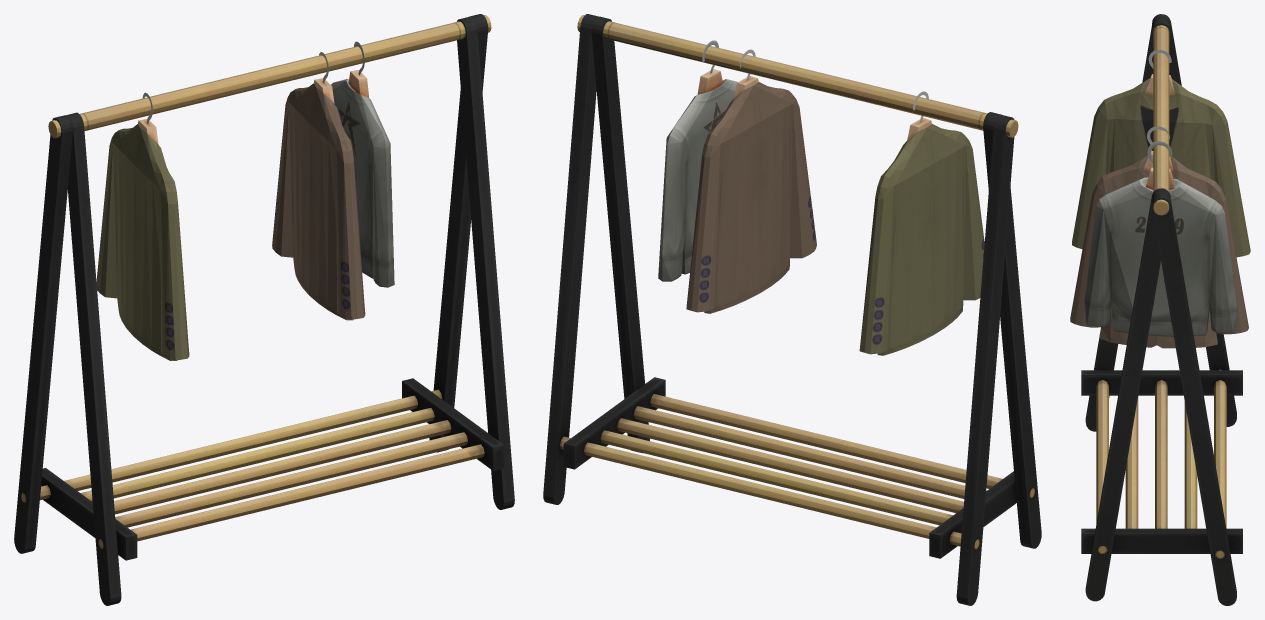
Rendered from P_Hanger_002_S1_M04.obj.
3 views of the same model, side by side, from view 1: azimuth 30°, elevation 25°; view 2: azimuth 150°, elevation 25°; view 3: azimuth 270°, elevation 25° (orthographic). The views are drawn at different scales.
Size of the model in its own units: 1.8 by 1.87 by 0.7355.
4 materials, 4 textured.
